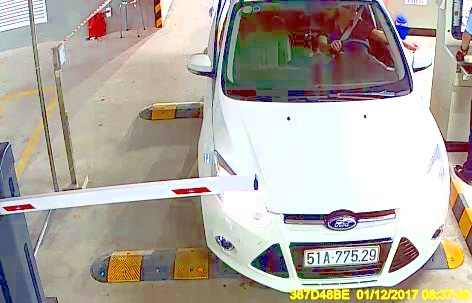plate: (303, 243, 379, 266)
